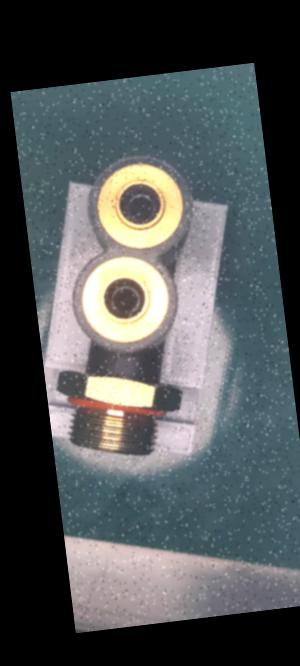craze: (111, 364, 125, 378)
